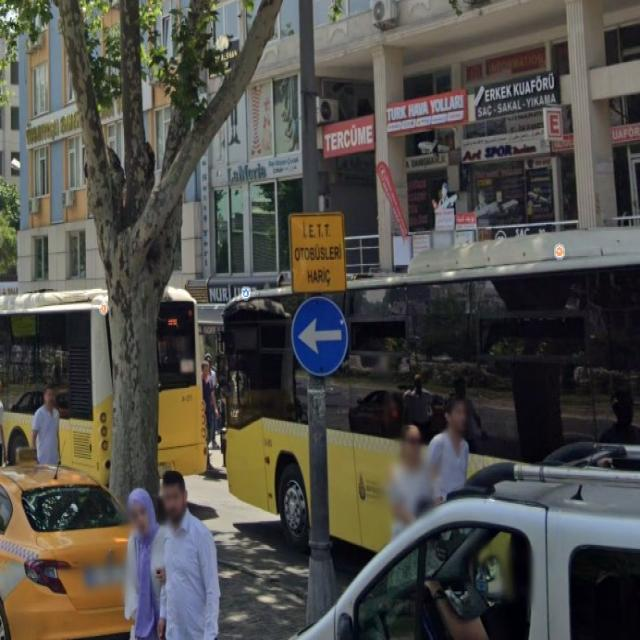Turn Left: (292, 291, 355, 373)
